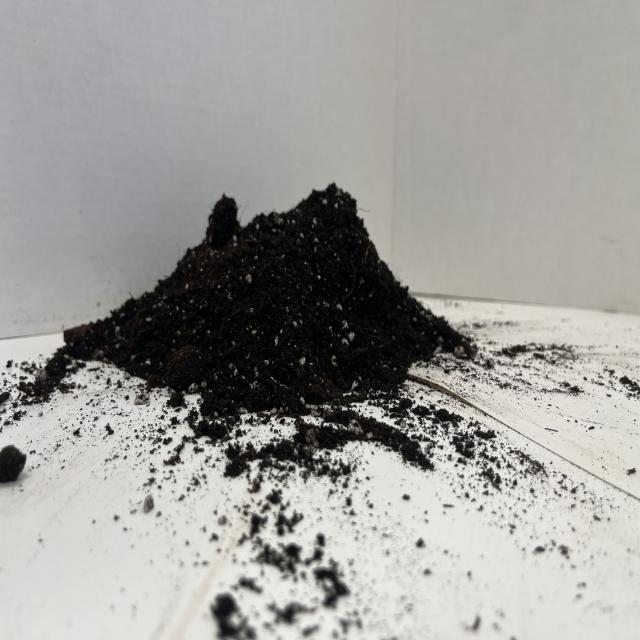soil: (42, 179, 478, 428)
